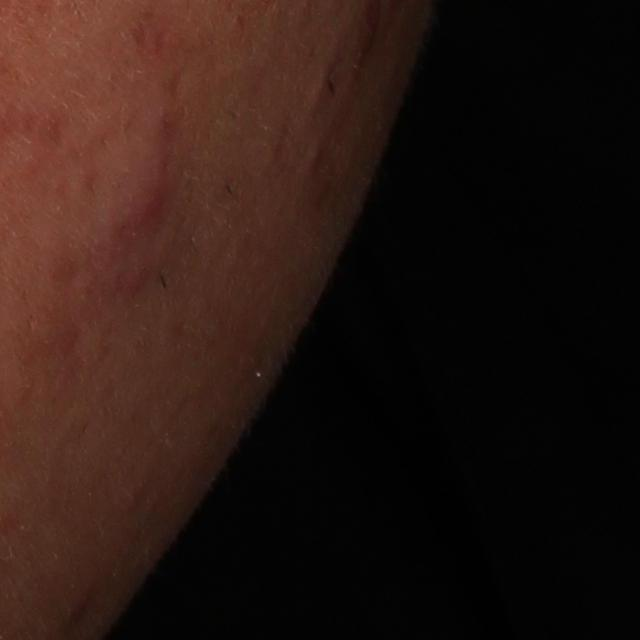papule: (111, 157, 178, 243)
